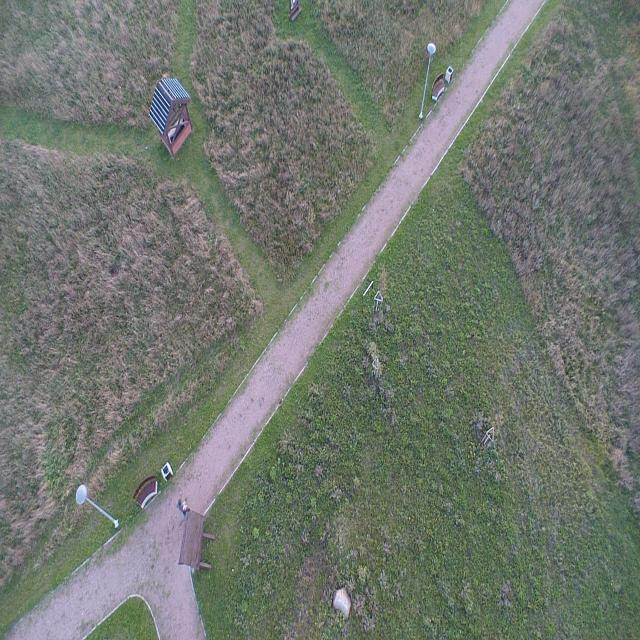p3rson: (176, 497, 186, 518), (182, 505, 191, 518)
